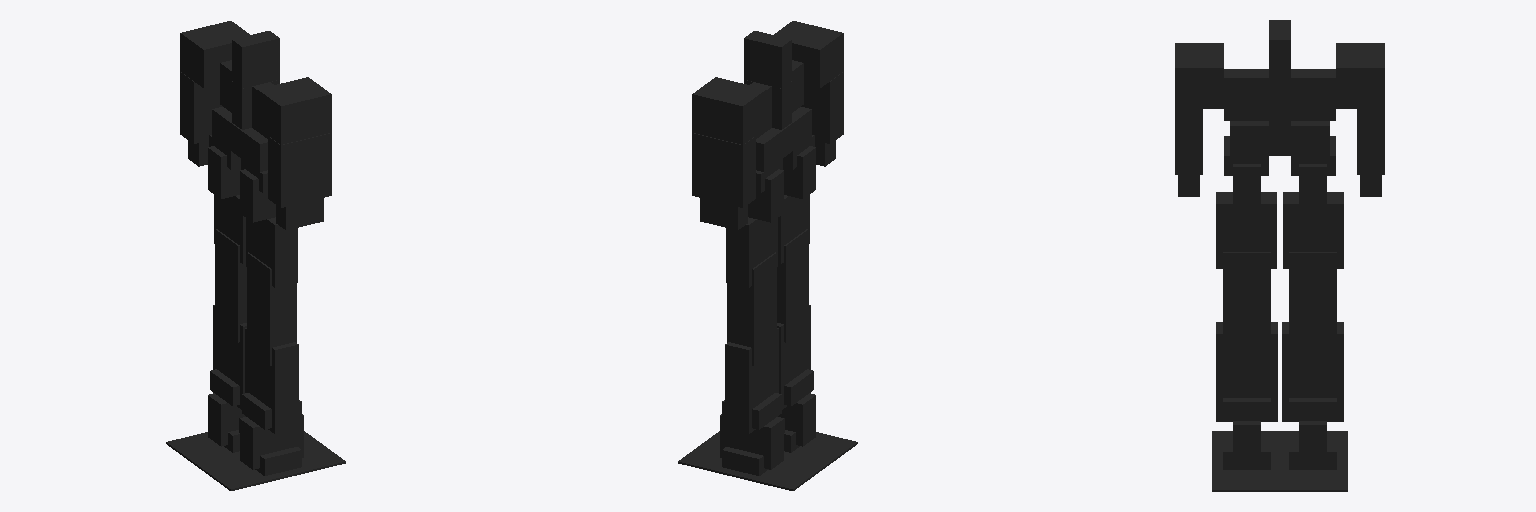
robot.urdf — mob_robot:
<?xml version='1.0'?>
<robot name="mob_robot">

  <!-- Base Link is waist bracket-->
  <link name="base_link">
    <visual>
      <origin xyz="0 0 0" rpy="0 4.71 0" />
      <geometry>
          <box size="0.02905 0.09013 0.04335"/>
      </geometry>
      <material name="darkgrey">
          <color rgba=".2 .2 .2 1" />
      </material>
    </visual>
    <!-- Collision on base_link-->
    <collision>
      <origin xyz="0 0 0" rpy="0 0 0" />
      <geometry>
          <box size="0.02905 0.09013 0.04335" />
      </geometry>
    </collision>
    <!--Mass in kilograms-->
    <inertial>
      <mass value="0.0005"/>
      <inertia ixx="0.13" ixy="0.0" ixz="0.0" iyy="0.21" iyz="0.0" izz="0.13" />
    </inertial>

    <!--chest bracket-->
    <visual>
      <origin xyz="0 0 0.036" rpy="0 0 0" />
      <geometry>
          <box size="0.0407 0.0197 0.0429"/>
      </geometry>
      <material name="darkgrey">
          <color rgba=".2 .2 .2 1" />
      </material>
    </visual>
    <collision>
      <origin xyz="0 0 0" rpy="0 0 0" />
      <geometry>
          <box size="0.407 0.197 0.429" />
      </geometry>
    </collision>
    <inertial>
      <mass value="0.055"/>
      <inertia ixx="0.13" ixy="0.0" ixz="0.0" iyy="0.21" iyz="0.0" izz="0.13" />
    </inertial>

    <!--right shoulder motor-->
    <visual>
      <origin xyz="0 0.03 0.036" rpy="0 0 1.57" />
      <geometry>
          <box size="0.0407 0.0197 0.0429"/>
      </geometry>
      <material name="darkgrey">
          <color rgba=".2 .2 .2 1" />
      </material>
    </visual>
    <collision>
      <origin xyz="0 0 0" rpy="0 0 0" />
      <geometry>
          <box size="0.407 0.197 0.429" />
      </geometry>
    </collision>
    <inertial>
      <mass value="0.055"/>
      <inertia ixx="0.13" ixy="0.0" ixz="0.0" iyy="0.21" iyz="0.0" izz="0.13" />
    </inertial>

    <!--left shoulder motor-->
    <visual>
      <origin xyz="0 -0.03 0.036" rpy="0 0 1.57" />
      <geometry>
          <box size="0.0407 0.0197 0.0429"/>
      </geometry>
      <material name="darkgrey">
          <color rgba=".2 .2 .2 1" />
      </material>
    </visual>
    <collision>
      <origin xyz="0 0 0" rpy="0 0 0" />
      <geometry>
          <box size="0.407 0.197 0.429" />
      </geometry>
    </collision>
    <inertial>
      <mass value="0.055"/>
      <inertia ixx="0.13" ixy="0.0" ixz="0.0" iyy="0.21" iyz="0.0" izz="0.13" />
    </inertial>

    <!--right hip motor-->
    <visual>
      <origin xyz="0 0.03 -0.0245" rpy="1.57 0 1.57" />
      <geometry>
          <box size="0.0407 0.0197 0.0429" />
      </geometry>
      <material name="darkgrey">
          <color rgba=".2 .2 .2 1" />
      </material>
    </visual>
    <collision>
      <origin xyz="0 0 0" rpy="0 0 0" />
      <geometry>
          <box size="0.407 0.197 0.429" />
      </geometry>
    </collision>
    <inertial>
      <mass value="0.055"/>
      <inertia ixx="0.13" ixy="0.0" ixz="0.0" iyy="0.21" iyz="0.0" izz="0.13" />
    </inertial>

    <!--left hip motor-->
    <visual>
      <origin xyz="0 -0.03 -0.0245" rpy="1.57 0 1.57" />
      <geometry>
          <box size="0.0407 0.0197 0.0429" />
      </geometry>
      <material name="darkgrey">
          <color rgba=".2 .2 .2 1" />
      </material>
    </visual>
    <collision>
      <origin xyz="0 0 0" rpy="0 0 0" />
      <geometry>
          <box size="0.407 0.197 0.429" />
      </geometry>
    </collision>
    <inertial>
      <mass value="0.055"/>
      <inertia ixx="0.13" ixy="0.0" ixz="0.0" iyy="0.21" iyz="0.0" izz="0.13" />
    </inertial>
  </link>

  <!--head motor-->
  <link name="head_motor">
    <visual>
      <origin xyz="0 0 0" rpy="0 0 0" />
      <geometry>
          <box size="0.0407 0.0197 0.0429"/>
      </geometry>
      <material name="darkgrey">
          <color rgba=".2 .2 .2 1" />
      </material>
    </visual>
    <collision>
      <origin xyz="0 0 0" rpy="0 0 0" />
      <geometry>
          <box size="0.407 0.197 0.429" />
      </geometry>
    </collision>
    <inertial>
      <mass value="0.055"/>
      <inertia ixx="0.13" ixy="0.0" ixz="0.0" iyy="0.21" iyz="0.0" izz="0.13" />
    </inertial>
  </link>

  <!--This is the head/chest joint -->
  <joint name="head_joint" type="revolute">
    <limit effort="1000.0" lower="-1.0" upper="1.0" velocity="0.5"/>
    <parent link="base_link"/>
    <child link="head_motor"/>
    <origin xyz="0 0 0.079" rpy="0 0 0" />
    <axis xyz="0 0 1" />
  </joint>

  <!--Right Shoulder-->
  <link name="right_shoulder">
    <visual>
      <origin xyz="0 0.0125 0.01" rpy="0 0 0" />
      <geometry>
          <box size="0.055 0.044 0.04"/>
      </geometry>
      <material name="darkgrey">
          <color rgba=".2 .2 .2 1" />
      </material>
    </visual>
    <collision>
      <origin xyz="0 0 0" rpy="0 0 0" />
      <geometry>
          <box size="0.055 0.044 0.04" />
      </geometry>
    </collision>
    <inertial>
      <mass value="0.055"/>
      <inertia ixx="0.13" ixy="0.0" ixz="0.0" iyy="0.21" iyz="0.0" izz="0.13" />
    </inertial>
  </link>

  <!--This is the shoulder joint -->
  <joint name="right_shoulder_joint" type="revolute">
    <limit effort="1000.0" lower="-1.0" upper="1.0" velocity="0.5"/>
    <parent link="base_link"/>
    <child link="right_shoulder"/>
    <origin xyz="0 0.06 0.045" rpy="0 0 0" />
    <axis xyz="0 1 0" />
  </joint>

  <!--Left Shoulder-->
  <link name="left_shoulder">
    <visual>
      <origin xyz="0 -0.0125 0.01" rpy="0 0 0" />
      <geometry>
          <box size="0.055 0.044 0.04"/>
      </geometry>
      <material name="darkgrey">
          <color rgba=".2 .2 .2 1" />
      </material>
    </visual>
    <collision>
      <origin xyz="0 0 0" rpy="0 0 0" />
      <geometry>
          <box size="0.055 0.044 0.04" />
      </geometry>
    </collision>
    <inertial>
      <mass value="0.055"/>
      <inertia ixx="0.13" ixy="0.0" ixz="0.0" iyy="0.21" iyz="0.0" izz="0.13" />
    </inertial>
  </link>

  <!--This is the left shoulder joint -->
  <joint name="left_shoulder_joint" type="revolute">
    <limit effort="1000.0" lower="-1.0" upper="1.0" velocity="0.5"/>
    <parent link="base_link"/>
    <child link="left_shoulder"/>
    <origin xyz="0 -0.06 0.045" rpy="0 0 0" />
    <axis xyz="0 1 0" />
  </joint>

  <!-- Right Arm -->
  <link name="right_arm_link">
     <visual>
      <origin xyz="0 0 -0.02" rpy="0 0 0" />
      <geometry>
          <box size="0.0407 0.0197 0.0429"/>
      </geometry>
      <material name="darkgrey">
          <color rgba=".2 .2 .2 1" />
      </material>
    </visual>
    <collision>
      <origin xyz="0 0 0" rpy="0 0 0" />
      <geometry>
          <box size="0.407 0.197 0.429" />
      </geometry>
    </collision>
    <inertial>
      <mass value="0.055"/>
      <inertia ixx="0.13" ixy="0.0" ixz="0.0" iyy="0.21" iyz="0.0" izz="0.13" />
    </inertial>

    <!-- Lower Arm Bracket -->
    <visual>
      <origin xyz="0 0 -0.063" rpy="0 0 1.57" />
      <geometry>
          <box size="0.025 0.055 0.065" />
      </geometry>
      <material name="darkgrey">
          <color rgba=".2 .2 .2 1" />
      </material>
    </visual>
     <collision>
      <origin xyz="0 0 0" rpy="0 0 0" />
      <geometry>
          <box size="0.025 0.055 0.065" />
      </geometry>
    </collision>
    <inertial>
      <mass value="0.055"/>
      <inertia ixx="0.13" ixy="0.0" ixz="0.0" iyy="0.21" iyz="0.0" izz="0.13" />
    </inertial>
  </link>

  <!--This is the right arm joint -->
  <joint name="right_arm_joint" type="revolute">
    <limit effort="1000.0" lower="-1.0" upper="1.0" velocity="0.5"/>
    <parent link="right_shoulder"/>
    <child link="right_arm_link"/>
    <origin xyz="0 0.022 0.02" rpy="0 0 0" />
    <axis xyz="1 0 0" />
  </joint>

  <!-- Left Arm -->
  <link name="left_arm_link">
     <visual>
      <origin xyz="0 0 -0.02" rpy="0 0 0" />
      <geometry>
          <box size="0.0407 0.0197 0.0429"/>
      </geometry>
      <material name="darkgrey">
          <color rgba=".2 .2 .2 1" />
      </material>
    </visual>
    <collision>
      <origin xyz="0 0 0" rpy="0 0 0" />
      <geometry>
          <box size="0.407 0.197 0.429" />
      </geometry>
    </collision>
    <inertial>
      <mass value="0.055"/>
      <inertia ixx="0.13" ixy="0.0" ixz="0.0" iyy="0.21" iyz="0.0" izz="0.13" />
    </inertial>

    <!-- Lower Arm Bracket -->
    <visual>
      <origin xyz="0 0 -0.063" rpy="0 0 1.57" />
      <geometry>
          <box size="0.025 0.055 0.065" />
      </geometry>
      <material name="darkgrey">
          <color rgba=".2 .2 .2 1" />
      </material>
    </visual>
     <collision>
      <origin xyz="0 0 0" rpy="0 0 0" />
      <geometry>
          <box size="0.025 0.055 0.065" />
      </geometry>
    </collision>
    <inertial>
      <mass value="0.055"/>
      <inertia ixx="0.13" ixy="0.0" ixz="0.0" iyy="0.21" iyz="0.0" izz="0.13" />
    </inertial>
  </link>

  <!--This is the left arm joint -->
  <joint name="left_arm_joint" type="revolute">
    <limit effort="1000.0" lower="-1.0" upper="1.0" velocity="0.5"/>
    <parent link="left_shoulder"/>
    <child link="left_arm_link"/>
    <origin xyz="0 -0.022 0.02" rpy="0 0 0" />
    <axis xyz="1 0 0" />
  </joint>

  <!--Right Hand-->
  <link name="right_hand">
    <visual>
      <origin xyz="0 0 -0.015" rpy="0 0 0" />
      <geometry>
          <box size="0.0407 0.0197 0.0429"/>
      </geometry>
      <material name="darkgrey">
          <color rgba=".2 .2 .2 1" />
      </material>
    </visual>
    <collision>
      <origin xyz="0 0 0" rpy="0 0 0" />
      <geometry>
          <box size="0.407 0.197 0.429" />
      </geometry>
    </collision>
    <inertial>
      <mass value="0.055"/>
      <inertia ixx="0.13" ixy="0.0" ixz="0.0" iyy="0.21" iyz="0.0" izz="0.13" />
    </inertial>
  </link>

  <!--This is the right hand joint -->
  <joint name="right_hand_joint" type="revolute">
    <limit effort="1000.0" lower="-1.0" upper="1.0" velocity="0.5"/>
    <parent link="right_arm_link"/>
    <child link="right_hand"/>
    <origin xyz="0 0 -0.085" rpy="0 0 0" />
    <axis xyz="1 0 0" />
  </joint>

  <!--Left Hand-->
  <link name="left_hand">
    <visual>
      <origin xyz="0 0 -0.015" rpy="0 0 0" />
      <geometry>
          <box size="0.0407 0.0197 0.0429"/>
      </geometry>
      <material name="darkgrey">
          <color rgba=".2 .2 .2 1" />
      </material>
    </visual>
    <collision>
      <origin xyz="0 0 0" rpy="0 0 0" />
      <geometry>
          <box size="0.407 0.197 0.429" />
      </geometry>
    </collision>
    <inertial>
      <mass value="0.055"/>
      <inertia ixx="0.13" ixy="0.0" ixz="0.0" iyy="0.21" iyz="0.0" izz="0.13" />
    </inertial>
  </link>

  <!--This is the left hand joint -->
  <joint name="left_hand_joint" type="revolute">
    <limit effort="1000.0" lower="-1.0" upper="1.0" velocity="0.5"/>
    <parent link="left_arm_link"/>
    <child link="left_hand"/>
    <origin xyz="0 0 -0.085" rpy="0 0 0" />
    <axis xyz="1 0 0" />
  </joint>

  <!-- Right Hip -->
  <link name="right_hip_link">
    <!-- Hip Upper Bracket -->
    <visual>
      <origin xyz="0 0 -0.02" rpy="0 0 0" />
      <geometry>
          <box size="0.056 0.025 0.044" />
      </geometry>
      <material name="darkgrey">
          <color rgba=".2 .2 .2 1" />
      </material>
    </visual>
    <collision>
      <origin xyz="0 0 0" rpy="0 0 0" />
      <geometry>
          <box size="0.056 0.025 0.044" />
      </geometry>
    </collision>
    <inertial>
      <mass value="0.055"/>
      <inertia ixx="0.13" ixy="0.0" ixz="0.0" iyy="0.21" iyz="0.0" izz="0.13" />
    </inertial>

    <!-- Hip Lower Bracket -->
    <visual>
      <origin xyz="0 0 -0.0746" rpy="0 0 0" />
      <geometry>
          <box size="0.025 0.055 0.065" />
      </geometry>
      <material name="darkgrey">
          <color rgba=".2 .2 .2 1" />
      </material>
    </visual>
    <collision>
      <origin xyz="0 0 0" rpy="0 0 0" />
      <geometry>
          <box size="0.025 0.055 0.065" />
      </geometry>
    </collision>
    <inertial>
      <mass value="0.055"/>
      <inertia ixx="0.13" ixy="0.0" ixz="0.0" iyy="0.21" iyz="0.0" izz="0.13" />
    </inertial>
  </link>

  <!--Right Hip joint roll-->
  <joint name="right_hip_joint_roll" type="revolute">
    <limit effort="1000.0" lower="-1.0" upper="1.0" velocity="0.5"/>
    <parent link="base_link"/>
    <child link="right_hip_link"/>
    <origin xyz="0 0.03 -0.0245" rpy="0 0 0" />
    <axis xyz="1 0 0" />
  </joint>

  <!-- Left Hip -->
  <link name="left_hip_link">
    <!-- Hip Upper Bracket -->
    <visual>
      <origin xyz="0 0 -0.02" rpy="0 0 0" />
      <geometry>
          <box size="0.056 0.025 0.044" />
      </geometry>
      <material name="darkgrey">
          <color rgba=".2 .2 .2 1" />
      </material>
    </visual>
    <collision>
      <origin xyz="0 0 0" rpy="0 0 0" />
      <geometry>
          <box size="0.056 0.025 0.044" />
      </geometry>
    </collision>
    <inertial>
      <mass value="0.055"/>
      <inertia ixx="0.13" ixy="0.0" ixz="0.0" iyy="0.21" iyz="0.0" izz="0.13" />
    </inertial>

    <!-- Hip Lower Bracket -->
    <visual>
      <origin xyz="0 0 -0.0746" rpy="0 0 0" />
      <geometry>
          <box size="0.025 0.055 0.065" />
      </geometry>
      <material name="darkgrey">
          <color rgba=".2 .2 .2 1" />
      </material>
    </visual>
    <collision>
      <origin xyz="0 0 0" rpy="0 0 0" />
      <geometry>
          <box size="0.025 0.055 0.065" />
      </geometry>
    </collision>
    <inertial>
      <mass value="0.055"/>
      <inertia ixx="0.13" ixy="0.0" ixz="0.0" iyy="0.21" iyz="0.0" izz="0.13" />
    </inertial>
  </link>

  <!--Left Hip joint roll-->
  <joint name="left_hip_joint_roll" type="revolute">
    <limit effort="1000.0" lower="-1.0" upper="1.0" velocity="0.5"/>
    <parent link="base_link"/>
    <child link="left_hip_link"/>
    <origin xyz="0 -0.03 -0.0245" rpy="0 0 0" />
    <axis xyz="1 0 0" />
  </joint>

  <!-- Right Thigh -->
  <link name="right_thigh_link">
    <visual>
      <origin xyz="0 0 -0.07" rpy="0 0 0" />
      <geometry>
          <box size="0.0285 0.0433 0.1" />
      </geometry>
      <material name="darkgrey">
          <color rgba=".2 .2 .2 1" />
      </material>
    </visual>
    <collision>
      <origin xyz="0 0 -0.07" rpy="0 0 0" />
      <geometry>
          <box size="0.0285 0.0433 0.1" />
      </geometry>
    </collision>
    <inertial>
      <mass value="0.055"/>
      <inertia ixx="0.13" ixy="0.0" ixz="0.0" iyy="0.21" iyz="0.0" izz="0.13" />
    </inertial>
  </link>

  <!--Right Hip joint pitch-->
  <joint name="right_hip_joint_pitch" type="revolute">
    <limit effort="1000.0" lower="-1.0" upper="1.0" velocity="0.5"/>
    <parent link="right_hip_link"/>
    <child link="right_thigh_link"/>
    <origin xyz="0 0 -0.07" rpy="0 0 0" />
    <axis xyz="0 1 0" />
  </joint>

  <!-- Left Thigh -->
  <link name="left_thigh_link">
    <visual>
      <origin xyz="0 0 -0.07" rpy="0 0 0" />
      <geometry>
          <box size="0.0285 0.0433 0.1" />
      </geometry>
      <material name="darkgrey">
          <color rgba=".2 .2 .2 1" />
      </material>
    </visual>
    <collision>
      <origin xyz="0 0 -0.07" rpy="0 0 0" />
      <geometry>
          <box size="0.0285 0.0433 0.1" />
      </geometry>
    </collision>
    <inertial>
      <mass value="0.055"/>
      <inertia ixx="0.13" ixy="0.0" ixz="0.0" iyy="0.21" iyz="0.0" izz="0.13" />
    </inertial>
  </link>

  <!--Left Hip joint pitch-->
  <joint name="left_hip_joint_pitch" type="revolute">
    <limit effort="1000.0" lower="-1.0" upper="1.0" velocity="0.5"/>
    <parent link="left_hip_link"/>
    <child link="left_thigh_link"/>
    <origin xyz="0 0 -0.07" rpy="0 0 0" />
    <axis xyz="0 1 0" />
  </joint>

  <!-- Right Knee -->
  <link name="right_knee_link">
    <visual>
      <origin xyz="0 0 -0.045" rpy="0 0 0" />
      <geometry>
          <box size="0.0256 0.0563 0.0874" />
      </geometry>
      <material name="darkgrey">
          <color rgba=".2 .2 .2 1" />
      </material>
    </visual>
    <collision>
      <origin xyz="0 0 0" rpy="0 0 0" />
      <geometry>
          <box size="0.0285 0.0433 0.1" />
      </geometry>
    </collision>
    <inertial>
      <mass value="0.055"/>
      <inertia ixx="0.13" ixy="0.0" ixz="0.0" iyy="0.21" iyz="0.0" izz="0.13" />
    </inertial>
  </link>

  <!--Right Thigh joint pitch-->
  <joint name="right_thigh_joint_pitch" type="revolute">
    <limit effort="1000.0" lower="-1.0" upper="1.0" velocity="0.5"/>
    <parent link="right_thigh_link"/>
    <child link="right_knee_link"/>
    <origin xyz="0 0 -0.10" rpy="0 0 0" />
    <axis xyz="0 1 0" />
  </joint>

  <!-- Left Knee -->
  <link name="left_knee_link">
    <visual>
      <origin xyz="0 0 -0.045" rpy="0 0 0" />
      <geometry>
          <box size="0.0256 0.0563 0.0874" />
      </geometry>
      <material name="darkgrey">
          <color rgba=".2 .2 .2 1" />
      </material>
    </visual>
    <collision>
      <origin xyz="0 0 0" rpy="0 0 0" />
      <geometry>
          <box size="0.0285 0.0433 0.1" />
      </geometry>
    </collision>
    <inertial>
      <mass value="0.055"/>
      <inertia ixx="0.13" ixy="0.0" ixz="0.0" iyy="0.21" iyz="0.0" izz="0.13" />
    </inertial>
  </link>

  <!--Left Thigh joint pitch-->
  <joint name="left_thigh_joint_pitch" type="revolute">
    <limit effort="1000.0" lower="-1.0" upper="1.0" velocity="0.5"/>
    <parent link="left_thigh_link"/>
    <child link="left_knee_link"/>
    <origin xyz="0 0 -0.10" rpy="0 0 0" />
    <axis xyz="0 1 0" />
  </joint>

  <!-- Right ankle -->
  <link name="right_ankle_link">
    <!-- Right Ankle -->
    <visual>
      <origin xyz="0 0 -0.0315" rpy="0 1.57 0" />
      <geometry>
          <box size="0.0435 0.0252 0.05588" />
      </geometry>
      <material name="darkgrey">
          <color rgba=".2 .2 .2 1" />
      </material>
    </visual>
    <collision>
      <origin xyz="0 0 0" rpy="0 0 0" />
      <geometry>
          <box size="0.0435 0.0252 0.05588" />
      </geometry>
    </collision>
    <inertial>
      <mass value="0.055"/>
      <inertia ixx="0.13" ixy="0.0" ixz="0.0" iyy="0.21" iyz="0.0" izz="0.13" />
    </inertial>

    <!-- Right Ankle Motor -->
    <visual>
      <origin xyz="0 0 0" rpy="1.57 0 0" />
      <geometry>
          <box size="0.0407 0.0197 0.0429" />
      </geometry>
      <material name="darkgrey">
          <color rgba=".2 .2 .2 1" />
      </material>
    </visual>
    <collision>
      <origin xyz="0 0 0" rpy="0 0 0" />
      <geometry>
          <box size="0.0407 0.0197 0.0429" />
      </geometry>
    </collision>
    <inertial>
      <mass value="0.055"/>
      <inertia ixx="0.13" ixy="0.0" ixz="0.0" iyy="0.21" iyz="0.0" izz="0.13" />
    </inertial>
  </link>

  <!--Right Knee joint pitch-->
  <joint name="right_knee_joint_pitch" type="revolute">
    <limit effort="1000.0" lower="-1.0" upper="1.0" velocity="0.5"/>
    <parent link="right_knee_link"/>
    <child link="right_ankle_link"/>
    <origin xyz="0 0 -0.075" rpy="0 0 0" />
    <axis xyz="0 1 0" />
  </joint>

  <!-- Left ankle -->
  <link name="left_ankle_link">
    <!-- Right Ankle -->
    <visual>
      <origin xyz="0 0 -0.0315" rpy="0 1.57 0" />
      <geometry>
          <box size="0.0435 0.0252 0.05588" />
      </geometry>
      <material name="darkgrey">
          <color rgba=".2 .2 .2 1" />
      </material>
    </visual>
    <collision>
      <origin xyz="0 0 0" rpy="0 0 0" />
      <geometry>
          <box size="0.0435 0.0252 0.05588" />
      </geometry>
    </collision>
    <inertial>
      <mass value="0.055"/>
      <inertia ixx="0.13" ixy="0.0" ixz="0.0" iyy="0.21" iyz="0.0" izz="0.13" />
    </inertial>

    <!-- Left Ankle Motor -->
    <visual>
      <origin xyz="0 0 0" rpy="1.57 0 0" />
      <geometry>
          <box size="0.0407 0.0197 0.0429" />
      </geometry>
      <material name="darkgrey">
          <color rgba=".2 .2 .2 1" />
      </material>
    </visual>
    <collision>
      <origin xyz="0 0 0" rpy="0 0 0" />
      <geometry>
          <box size="0.0407 0.0197 0.0429" />
      </geometry>
    </collision>
    <inertial>
      <mass value="0.055"/>
      <inertia ixx="0.13" ixy="0.0" ixz="0.0" iyy="0.21" iyz="0.0" izz="0.13" />
    </inertial>
  </link>

  <!--Left Knee joint pitch-->
  <joint name="left_knee_joint_pitch" type="revolute">
    <limit effort="1000.0" lower="-1.0" upper="1.0" velocity="0.5"/>
    <parent link="left_knee_link"/>
    <child link="left_ankle_link"/>
    <origin xyz="0 0 -0.075" rpy="0 0 0" />
    <axis xyz="0 1 0" />
  </joint>

  <!--Right Foot-->
  <link name="right_foot_link">
    <visual>
      <origin xyz="0 0 -0.009" rpy="0 0 0" />
      <geometry>
          <box size="0.125 0.062 0.002" />
      </geometry>
      <material name="darkgrey">
          <color rgba=".2 .2 .2 1" />
      </material>
    </visual>
    <collision>
      <origin xyz="0 0 0" rpy="0 0 0" />
      <geometry>
          <box size="0.125 0.062 0.002" />
      </geometry>
    </collision>
    <inertial>
      <mass value="0.055"/>
      <inertia ixx="0.13" ixy="0.0" ixz="0.0" iyy="0.21" iyz="0.0" izz="0.13" />
    </inertial>

    <!-- Right Foot Motor -->
    <visual>
      <origin xyz="0 0 0" rpy="1.57 0 0" />
      <geometry>
          <box size="0.0407 0.0197 0.0429" />
      </geometry>
      <material name="darkgrey">
          <color rgba=".2 .2 .2 1" />
      </material>
    </visual>
    <collision>
      <origin xyz="0 0 0" rpy="0 0 0" />
      <geometry>
          <box size="0.0407 0.0197 0.0429" />
      </geometry>
    </collision>
    <inertial>
      <mass value="0.055"/>
      <inertia ixx="0.13" ixy="0.0" ixz="0.0" iyy="0.21" iyz="0.0" izz="0.13" />
    </inertial>
  </link>

  <!--Right Ankle joint roll-->
  <joint name="right_ankle_joint_roll" type="revolute">
    <limit effort="1000.0" lower="-1.0" upper="1.0" velocity="0.5"/>
    <parent link="right_ankle_link"/>
    <child link="right_foot_link"/>
    <origin xyz="0 0 -0.05" rpy="0 0 0" />
    <axis xyz="1 0 0" />
  </joint>

  <!--Left Foot-->
  <link name="left_foot_link">
    <visual>
      <origin xyz="0 0 -0.009" rpy="0 0 0" />
      <geometry>
          <box size="0.125 0.062 0.002" />
      </geometry>
      <material name="darkgrey">
          <color rgba=".2 .2 .2 1" />
      </material>
    </visual>
    <collision>
      <origin xyz="0 0 0" rpy="0 0 0" />
      <geometry>
          <box size="0.125 0.062 0.002" />
      </geometry>
    </collision>
    <inertial>
      <mass value="0.055"/>
      <inertia ixx="0.13" ixy="0.0" ixz="0.0" iyy="0.21" iyz="0.0" izz="0.13" />
    </inertial>

    <!-- Left Foot Motor -->
    <visual>
      <origin xyz="0 0 0" rpy="1.57 0 0" />
      <geometry>
          <box size="0.0407 0.0197 0.0429" />
      </geometry>
      <material name="darkgrey">
          <color rgba=".2 .2 .2 1" />
      </material>
    </visual>
    <collision>
      <origin xyz="0 0 0" rpy="0 0 0" />
      <geometry>
          <box size="0.0407 0.0197 0.0429" />
      </geometry>
    </collision>
    <inertial>
      <mass value="0.055"/>
      <inertia ixx="0.13" ixy="0.0" ixz="0.0" iyy="0.21" iyz="0.0" izz="0.13" />
    </inertial>
  </link>

  <!--Left Ankle joint roll-->
  <joint name="left_ankle_joint_roll" type="revolute">
    <limit effort="1000.0" lower="-1.0" upper="1.0" velocity="0.5"/>
    <parent link="left_ankle_link"/>
    <child link="left_foot_link"/>
    <origin xyz="0 0 -0.05" rpy="0 0 0" />
    <axis xyz="1 0 0" />
  </joint>
</robot>

--- What the picture shows (computed from the rendered views, not written in the file) ---
3 views of the same robot in one strip: view 1: azimuth 30°, elevation 25°; view 2: azimuth 150°, elevation 25°; view 3: azimuth 270°, elevation 25° (orthographic).
Robot: mob_robot — 18 links, 17 joints (17 revolute); root link base_link; default pose: every joint at zero.
Links seen in each view (by area): view 1: base_link, left_arm_link, left_shoulder, left_thigh_link, left_hip_link, left_knee_link, left_foot_link, right_thigh_link, right_shoulder, left_ankle_link, right_hip_link, head_motor (+5 smaller); view 2: base_link, right_arm_link, right_shoulder, right_thigh_link, right_hip_link, right_knee_link, right_foot_link, left_thigh_link, left_shoulder, right_ankle_link, left_hip_link, head_motor (+5 smaller); view 3: base_link, right_thigh_link, left_thigh_link, right_hip_link, left_hip_link, right_knee_link, left_knee_link, right_shoulder, left_shoulder, right_foot_link, left_foot_link, right_ankle_link (+4 smaller).
Boxes of the visible links, x1,y1,x2,y2 form: base_link: (209, 60, 279, 192); left_arm_link: (268, 133, 331, 207); left_shoulder: (258, 77, 331, 144); left_thigh_link: (247, 252, 296, 365); left_hip_link: (240, 169, 297, 287); left_knee_link: (245, 328, 298, 433); left_foot_link: (198, 438, 345, 490); right_thigh_link: (215, 229, 246, 342); right_shoulder: (180, 21, 249, 87); left_ankle_link: (239, 393, 303, 469); right_hip_link: (208, 146, 245, 264); head_motor: (232, 31, 279, 88); base_link: (744, 60, 814, 192); right_arm_link: (692, 133, 755, 207); right_shoulder: (692, 77, 765, 144); right_thigh_link: (727, 252, 776, 365); right_hip_link: (726, 169, 783, 287); right_knee_link: (725, 328, 778, 433); right_foot_link: (678, 438, 825, 490); left_thigh_link: (777, 229, 808, 342); left_shoulder: (774, 21, 843, 87); right_ankle_link: (720, 393, 784, 469); left_hip_link: (778, 146, 815, 264); head_motor: (744, 31, 791, 88); base_link: (1224, 69, 1335, 175); right_thigh_link: (1289, 252, 1336, 352); left_thigh_link: (1223, 252, 1270, 352); right_hip_link: (1283, 164, 1343, 268); left_hip_link: (1216, 164, 1276, 268); right_knee_link: (1282, 322, 1343, 421); left_knee_link: (1216, 322, 1277, 421); right_shoulder: (1336, 43, 1384, 108); left_shoulder: (1175, 43, 1223, 108); right_foot_link: (1279, 431, 1347, 491); left_foot_link: (1212, 431, 1280, 491); right_ankle_link: (1289, 398, 1336, 468).
Size in the robot's own frame: 0.125 by 0.189 by 0.4299 metres.
Geometry: primitives only (box / cylinder / sphere), no mesh files.